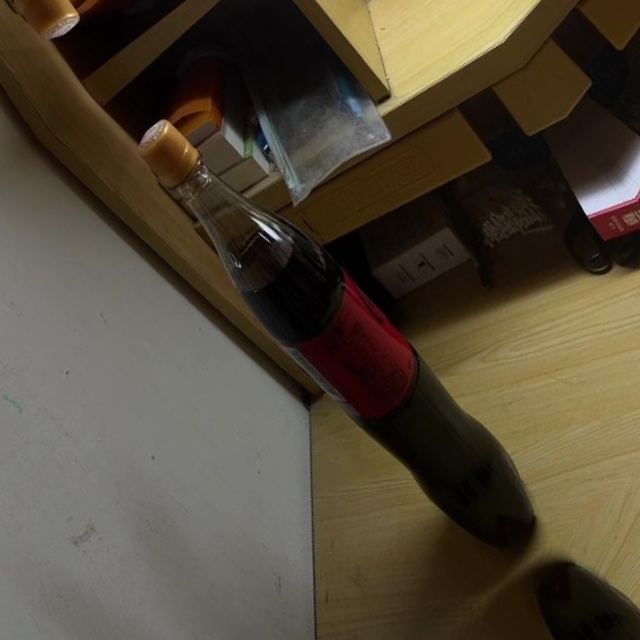Coca-Cola: (114, 80, 563, 585)
